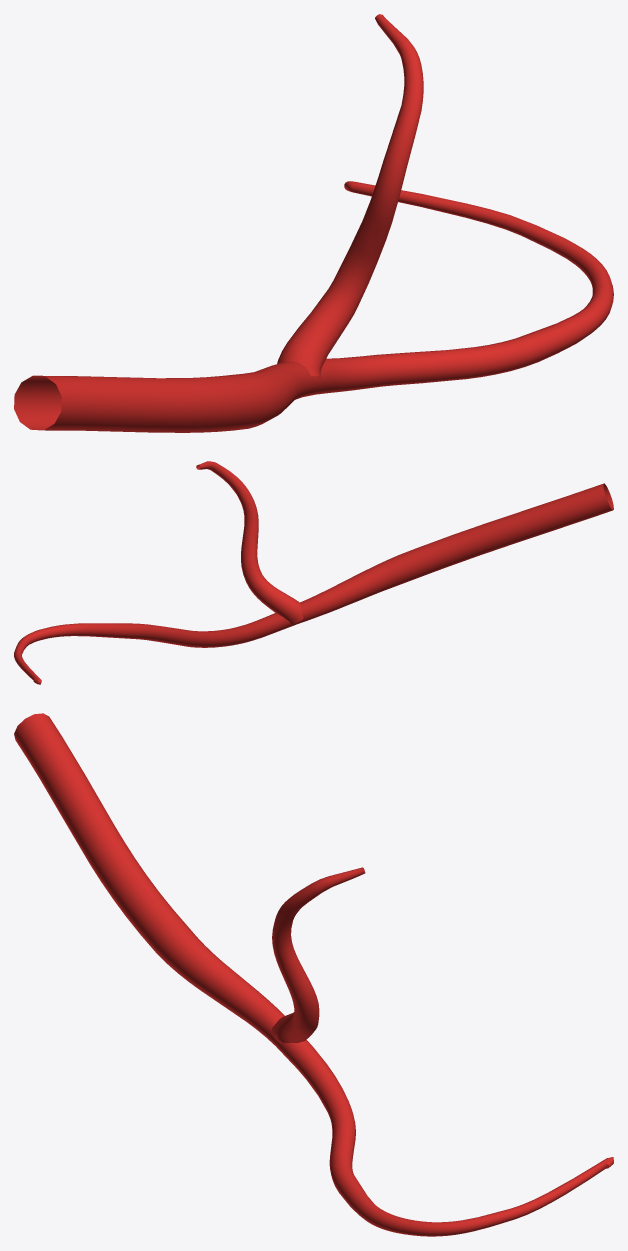
File: circulatorio-lateral-circumflex-femoral-veins-l.glb
3 renders of one model, top to bottom at view 1: azimuth 30°, elevation 25°; view 2: azimuth 150°, elevation 25°; view 3: azimuth 270°, elevation 25°, orthographic. The views are drawn at different scales.
Parts seen in each view (by area): view 1: Lateral circumflex femoral veins.l; view 2: Lateral circumflex femoral veins.l; view 3: Lateral circumflex femoral veins.l.
Part boxes in pixels (bbox=[...]): Lateral circumflex femoral veins.l: bbox=[14, 14, 613, 432]; Lateral circumflex femoral veins.l: bbox=[14, 461, 613, 684]; Lateral circumflex femoral veins.l: bbox=[14, 713, 613, 1236].
Bounding box in the file's own units: 0.1058 × 0.0445 × 0.087.
